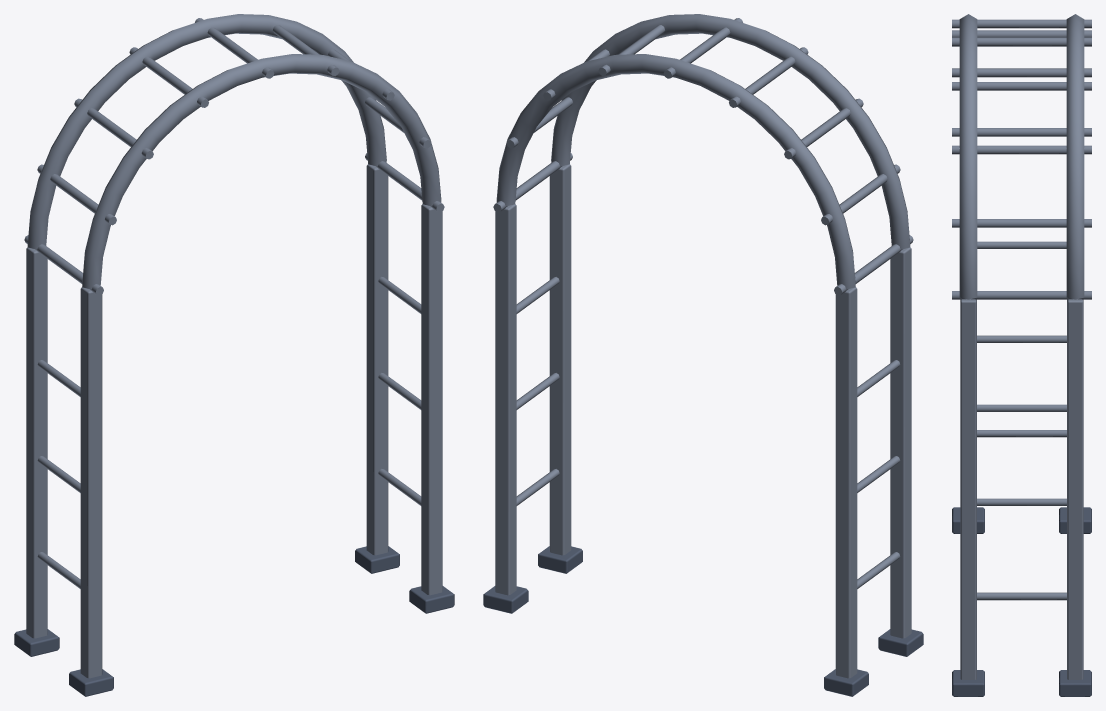
Rendered from 花园拱门-lite.glb.
The picture shows the model from 3 angles, left to right: view 1: azimuth 30°, elevation 25°; view 2: azimuth 150°, elevation 25°; view 3: azimuth 270°, elevation 25°; orthographic projection. The views are drawn at different scales.
Visible parts, largest first — view 1: garden-arch; view 2: garden-arch; view 3: garden-arch.
Part boxes in pixels (left/top/right/bottom): garden-arch: left=14, top=14, right=454, bottom=696; garden-arch: left=483, top=14, right=923, bottom=696; garden-arch: left=952, top=14, right=1091, bottom=696.
Size of the model in its own units: 1.65 by 2.5 by 0.55.
